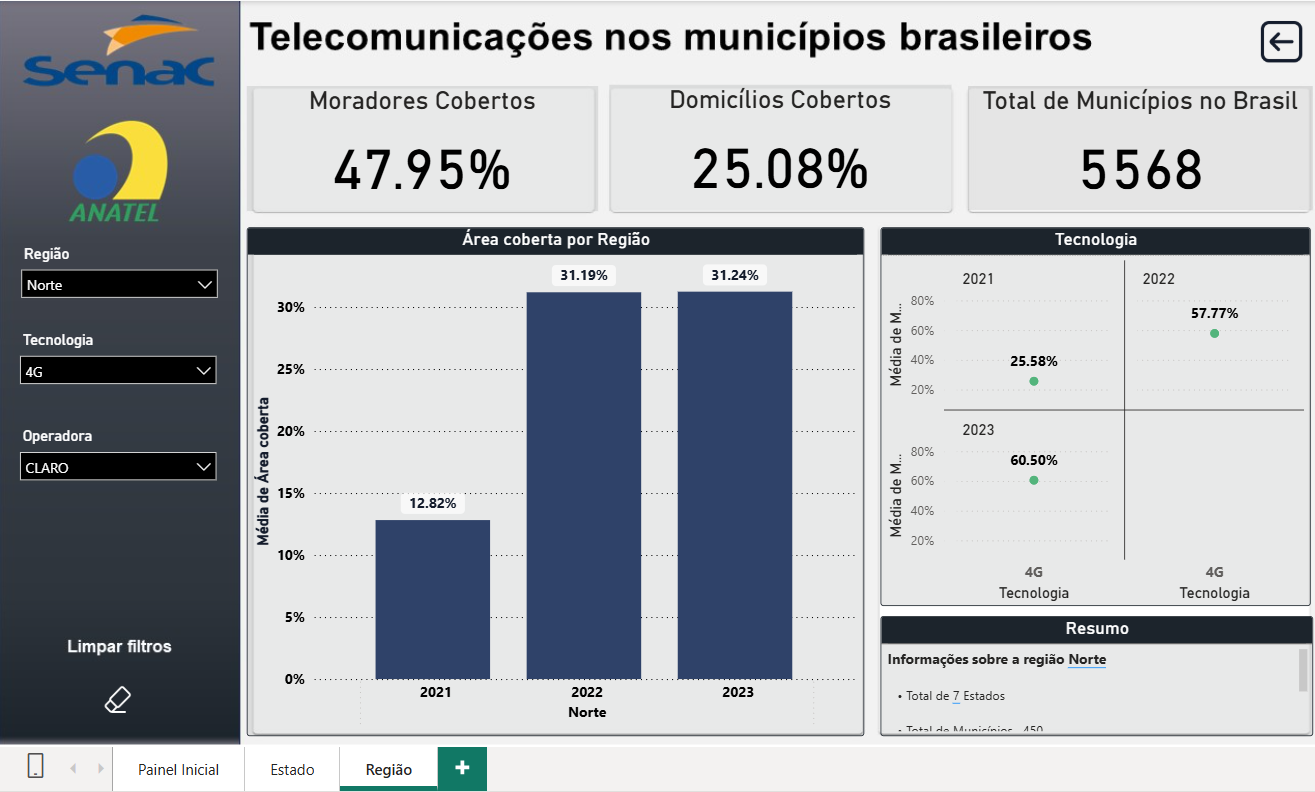

The page's visual inventory and layout, read from the dashboard file:
{"tool":"powerbi","page":{"name":"Região","canvas":[1280,720],"ordinal":2},"visuals":[{"type":"slicer","fields":{"Values":["Região.Região"]},"box":[11.7,230,210,91.7],"z":0},{"type":"card","title":"Moradores Cobertos","fields":{"Values":["Avg(Fato.Moradores cobertos)"]},"box":[240,82,338.9,120.6],"z":1000},{"type":"card","title":"Domicílios Cobertos","fields":{"Values":["Avg(Fato.% Área coberta)"]},"box":[590,81.2,330,121.2],"z":2000},{"type":"card","title":"Total de Municípios no Brasil","fields":{"Values":["Median(Fato.TotalMunicipios)"]},"box":[936.2,82.5,332.5,120],"z":3000},{"type":"lineStackedColumnComboChart","title":"Área coberta por Região","fields":{"Category":["Região.Região","Calendario.Date.Variation.Hierarquia de datas.Ano"],"Y":["Avg(Fato.% Área coberta)"]},"box":[240,218.3,595.8,490.9],"z":4000},{"type":"image","box":[31.7,655,168.3,38.3],"z":5000},{"type":"image","box":[1210,15,58.3,50],"z":6000},{"type":"slicer","fields":{"Values":["Tecnologia.Tecnologia"]},"box":[11.2,313.8,210,92.5],"z":7000},{"type":"textbox","title":"Resumo","box":[851.5,593.4,417.3,115.8],"z":8000},{"type":"areaChart","title":"Tecnologia","fields":{"Y":["Avg(Fato.Moradores cobertos)"],"Category":["Tecnologia.Tecnologia"],"Rows":["Calendario.Date.Variation.Hierarquia de datas.Ano"]},"box":[851.5,218.3,414.9,365.4],"z":9000},{"type":"slicer","fields":{"Values":["Operadora.Operadora"]},"box":[11.2,406.2,210,92.5],"z":10000}]}

Visuals, with their boxes on the page's 1280x720 design canvas (x1, y1, x2, y2). These are canvas units, not pixel positions in the 1315x792 screenshot, which may show the page scaled, cropped or inside an application window:
slicer - Região.Região: pyautogui.locateOnScreen(12, 230, 222, 322)
"Moradores Cobertos" card: pyautogui.locateOnScreen(240, 82, 579, 203)
"Domicílios Cobertos" card: pyautogui.locateOnScreen(590, 81, 920, 202)
"Total de Municípios no Brasil" card: pyautogui.locateOnScreen(936, 82, 1269, 202)
"Área coberta por Região" lineStackedColumnComboChart: pyautogui.locateOnScreen(240, 218, 836, 709)
image: pyautogui.locateOnScreen(32, 655, 200, 693)
image: pyautogui.locateOnScreen(1210, 15, 1268, 65)
slicer - Tecnologia.Tecnologia: pyautogui.locateOnScreen(11, 314, 221, 406)
"Resumo" textbox: pyautogui.locateOnScreen(852, 593, 1269, 709)
"Tecnologia" areaChart: pyautogui.locateOnScreen(852, 218, 1266, 584)
slicer - Operadora.Operadora: pyautogui.locateOnScreen(11, 406, 221, 499)
